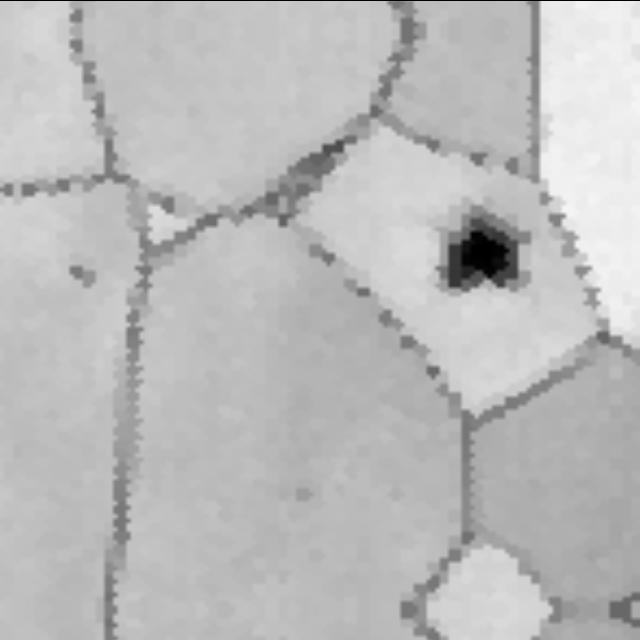good_void: (419, 191, 538, 301), (59, 256, 102, 294), (288, 478, 317, 511)
